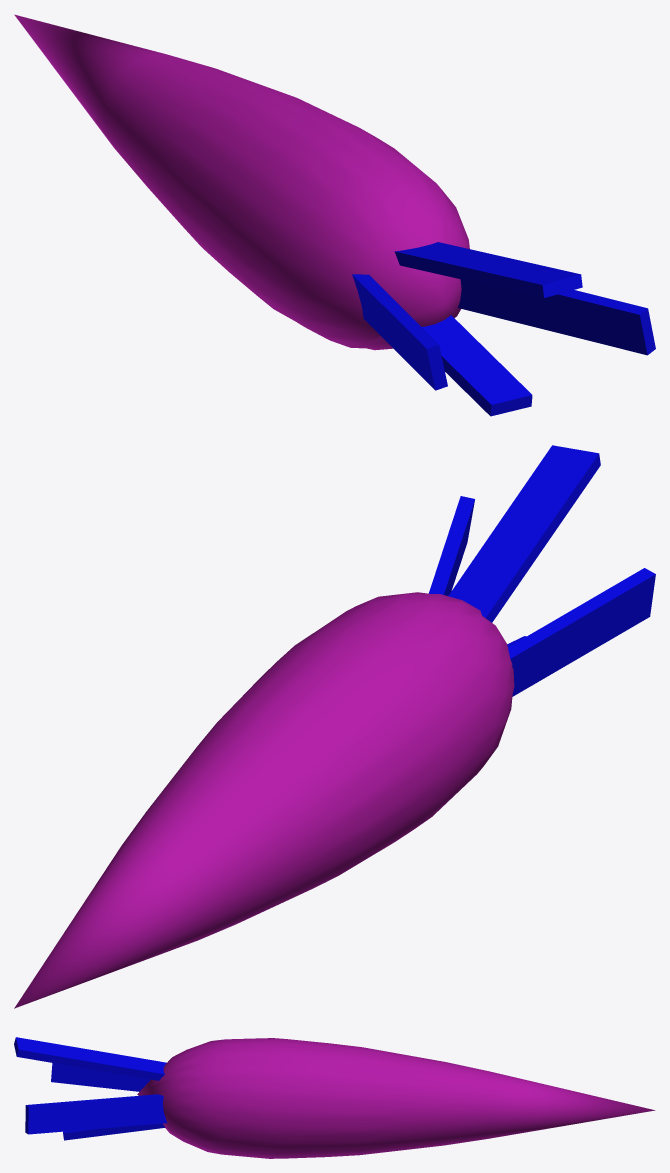
The model's file is carrot_weird.fbx.
The picture shows the model from 3 angles, top to bottom: view 1: azimuth 30°, elevation 25°; view 2: azimuth 150°, elevation 25°; view 3: azimuth 270°, elevation 25°; orthographic projection. The views are drawn at different scales.
Parts seen in each view (by area): view 1: pCone2; view 2: pCone2; view 3: pCone2.
Part boxes in pixels (x1=…): pCone2: x1=14, y1=14, x2=655, y2=416; pCone2: x1=14, y1=445, x2=655, y2=1008; pCone2: x1=14, y1=1037, x2=655, y2=1158.
Size of the model in its own units: 1.55 by 1.36 by 6.9.
